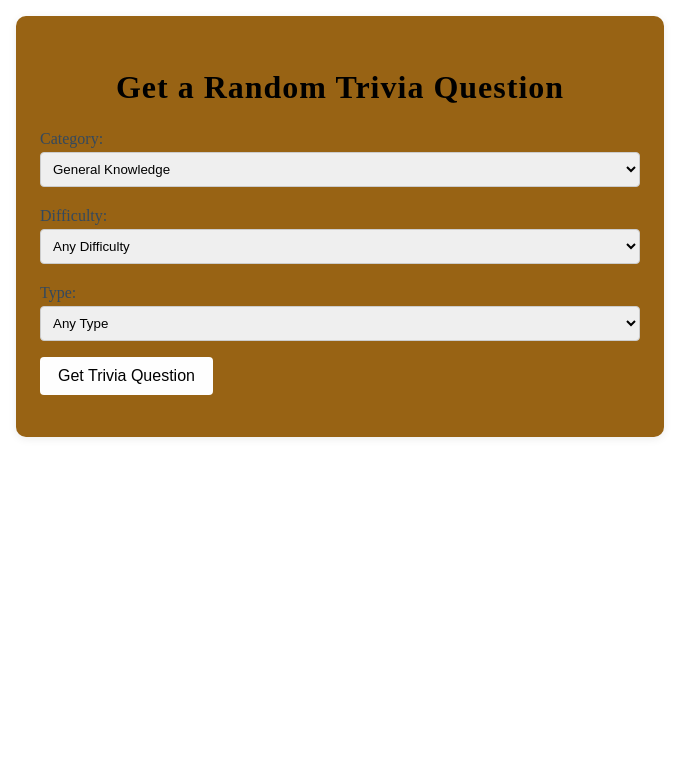
Test case: Trivia Page › shows "Sign in to save your trivia results" message when not logged in and question is loaded
The width and height of the screenshot is (681, 768).
Click the button "Get Trivia Question": (126, 376) [40, 357, 213, 395]
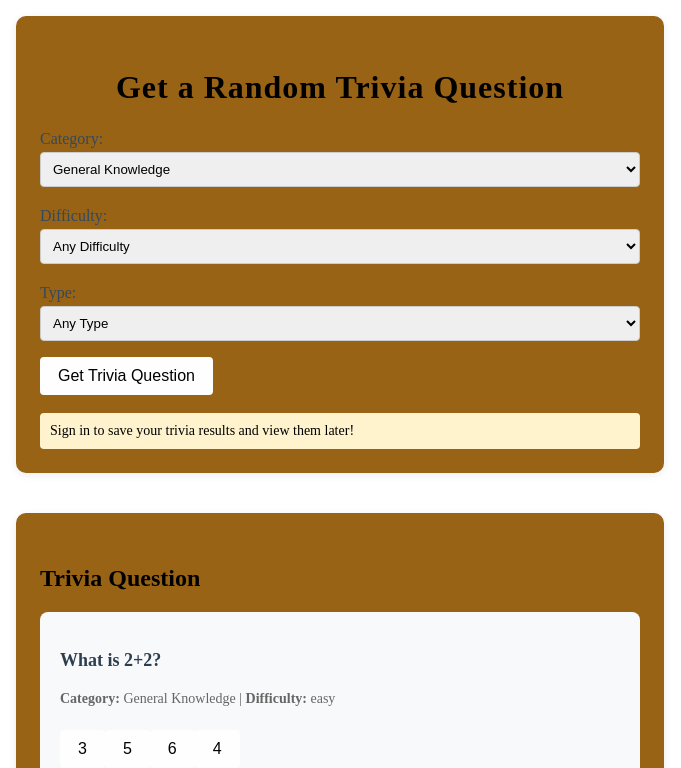
Expected: the text "What is 2+2?" is shown, [60, 650, 161, 670]
Expected: the text "Sign in to save your trivia results and view them later!" is shown, [40, 413, 640, 449]
